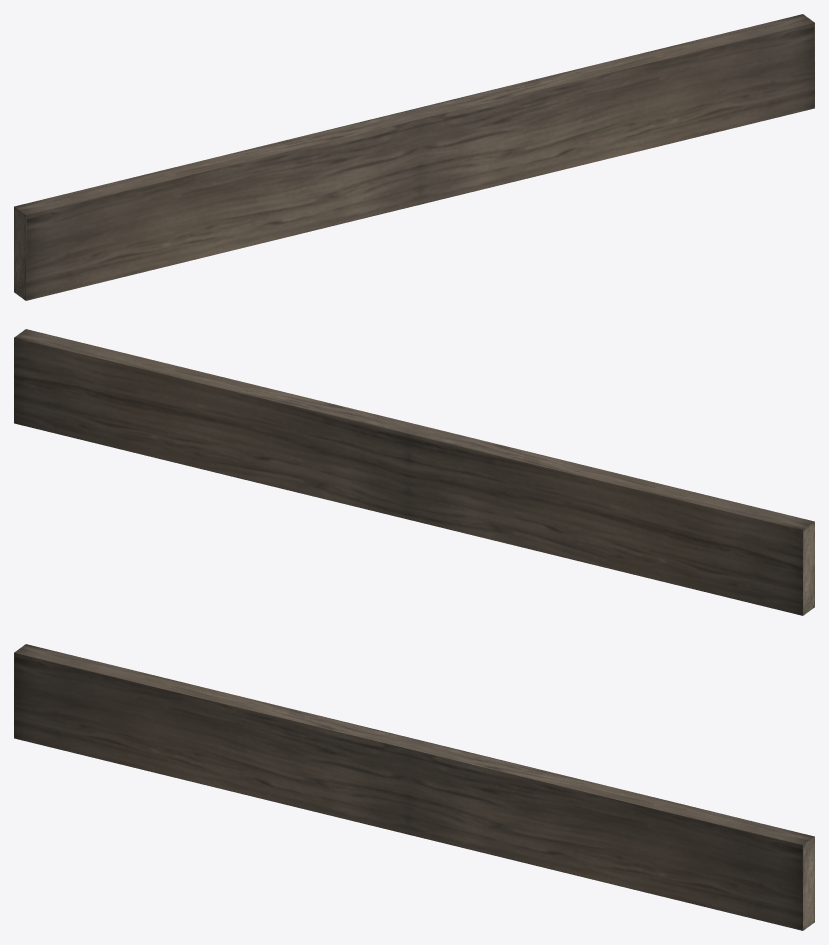
The model's file is Pillar_Beam_B.fbx.
3 renders of one model, top to bottom at view 1: azimuth 30°, elevation 25°; view 2: azimuth 150°, elevation 25°; view 3: azimuth 330°, elevation 25°, orthographic.
Visible parts, largest first — view 1: Pillar_Beam_B; view 2: Pillar_Beam_B; view 3: Pillar_Beam_B.
Part boxes in pixels (box(x1,y1,x2,y2)): Pillar_Beam_B: box(14, 14, 814, 300); Pillar_Beam_B: box(14, 329, 814, 615); Pillar_Beam_B: box(14, 644, 814, 930).
Bounding box in the file's own units: 6.53 × 0.6773 × 0.1709.
